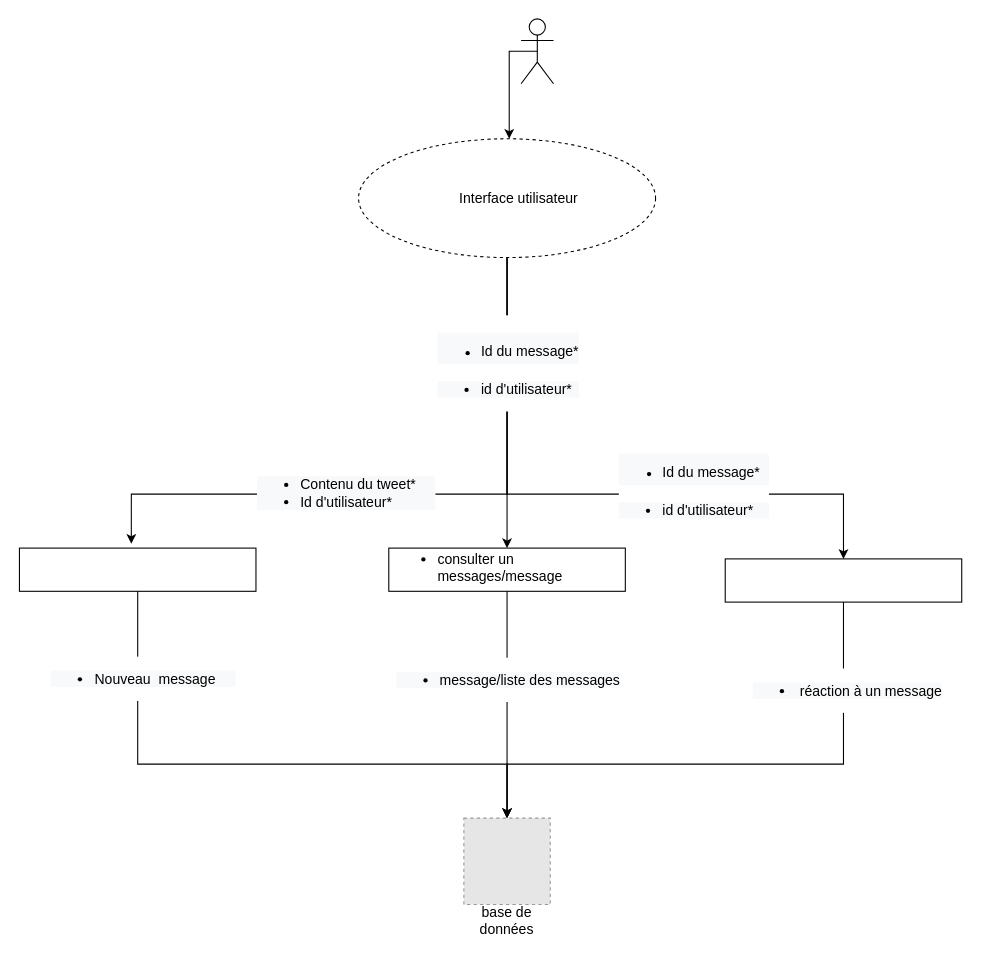
Some shapes in this 981 by 956 pixel diagram are drawn without their labels. Grey dashed boxes stand in for pictures. The box of each missing label's shape, as (x1, y1, x2, y2) in pixels:
Publier un message: (18, 547, 256, 591)
réagir à un message: (724, 558, 962, 602)
